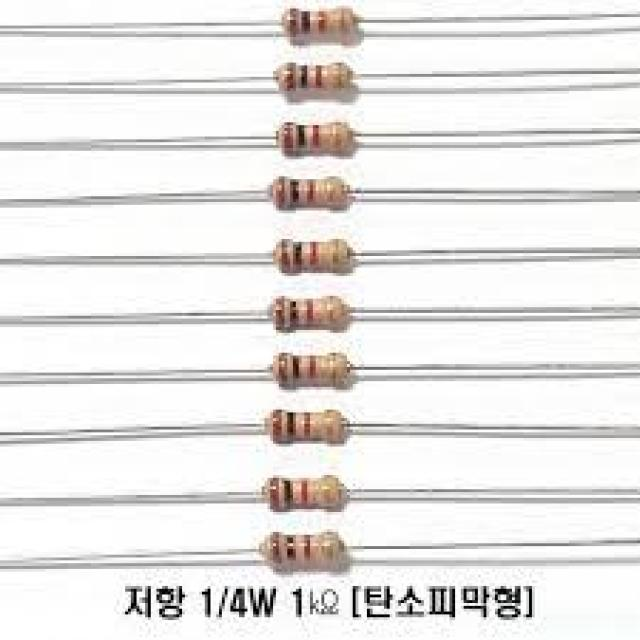Resistor: (276, 62, 358, 102), (272, 294, 351, 334), (284, 6, 361, 47), (265, 531, 348, 569), (274, 238, 355, 276), (272, 175, 352, 212), (275, 352, 352, 390), (278, 121, 355, 159), (269, 409, 348, 445), (268, 475, 346, 511)
